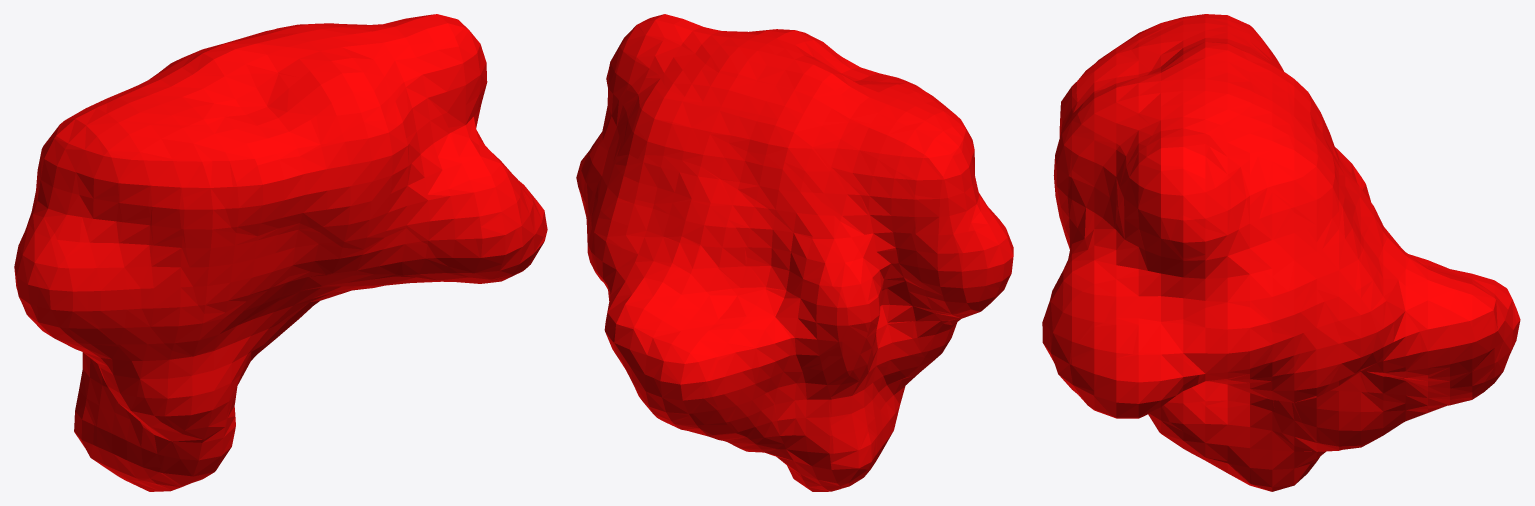
File: iscU_coarse.dae
3 renders of one model, left to right at view 1: azimuth 30°, elevation 25°; view 2: azimuth 150°, elevation 25°; view 3: azimuth 270°, elevation 25°, orthographic. The views are drawn at different scales.
Visible parts, largest first — view 1: iscU; view 2: iscU; view 3: iscU.
Part boxes in pixels (x1=…): iscU: x1=14, y1=14, x2=547, y2=491; iscU: x1=576, y1=14, x2=1013, y2=491; iscU: x1=1042, y1=14, x2=1520, y2=491.
Bounding box in the file's own units: 50.53 × 44.52 × 41.56.
